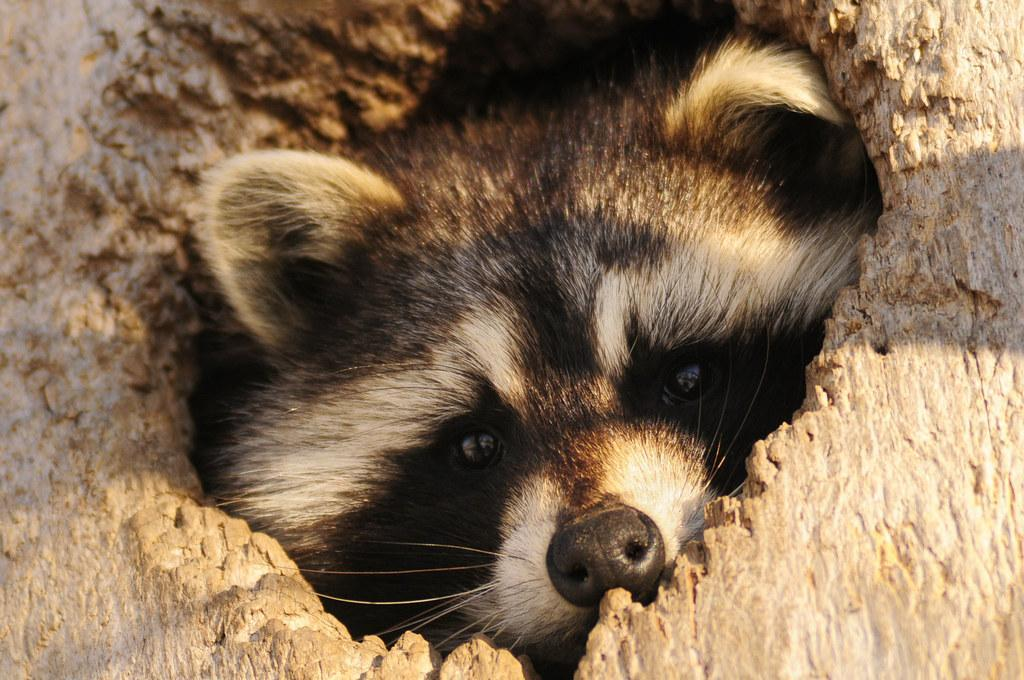raccoon: (173, 21, 889, 667)
